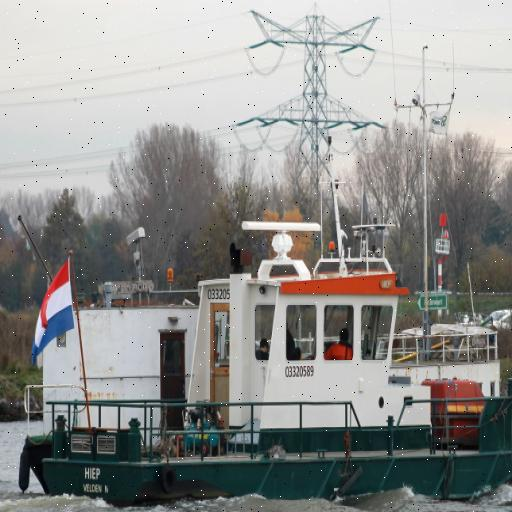tugboat: (15, 215, 512, 512)
